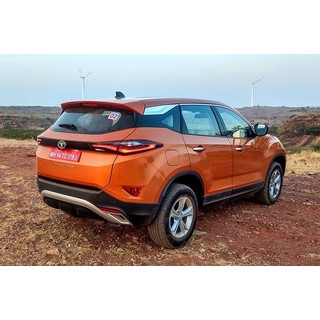car: (35, 97, 288, 248)
